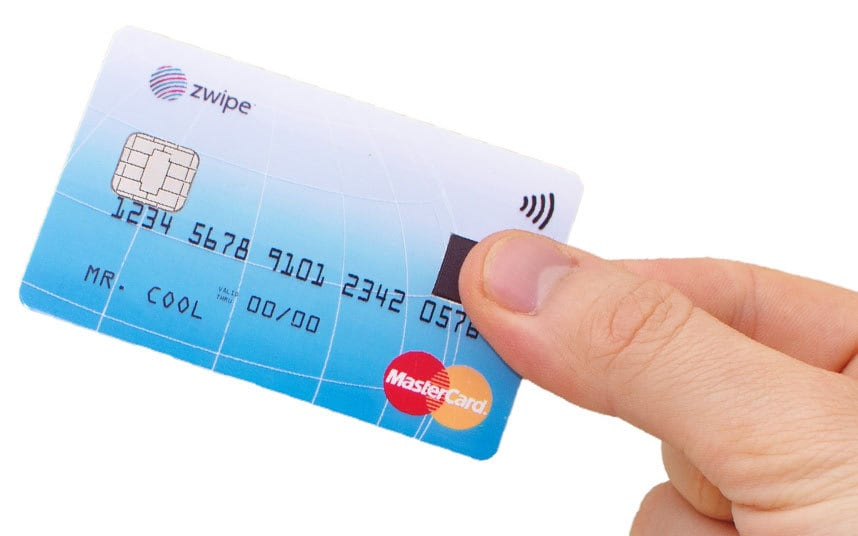tarjeta: (16, 25, 587, 464)
